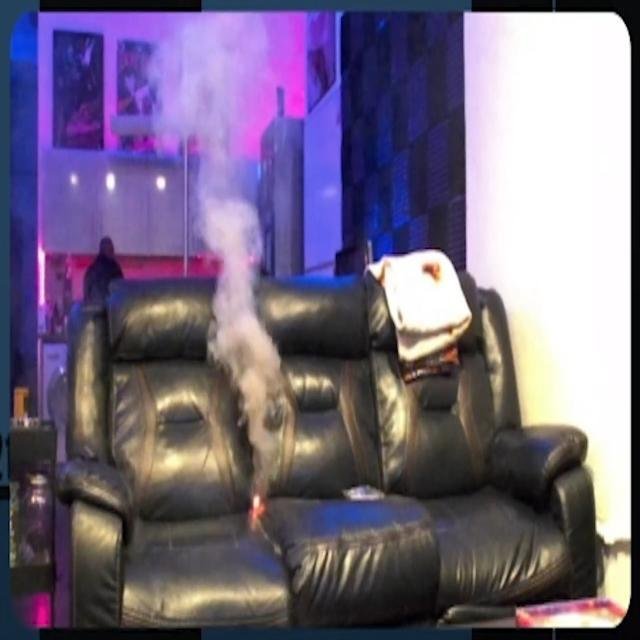Fire: (252, 490, 264, 524)
Smoke: (168, 20, 304, 468)
